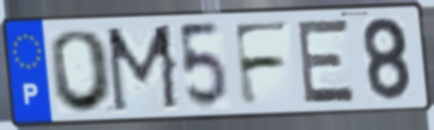5: (174, 18, 231, 114)
8: (360, 14, 413, 104)
E: (296, 17, 358, 107)
F: (230, 19, 292, 109)
M: (103, 21, 183, 117)
O: (48, 27, 117, 115)
